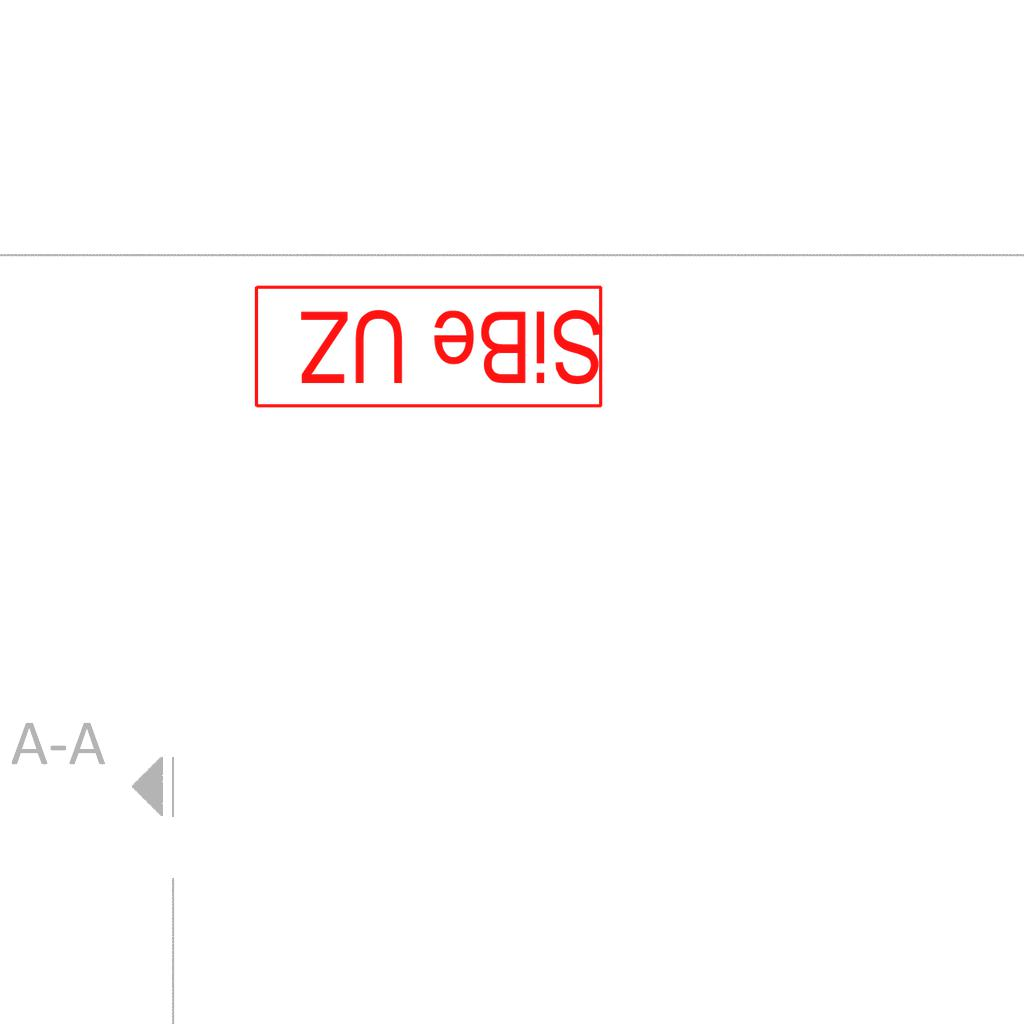Zentrale_Sicherheitsbeleuchtung: (249, 281, 606, 411)
